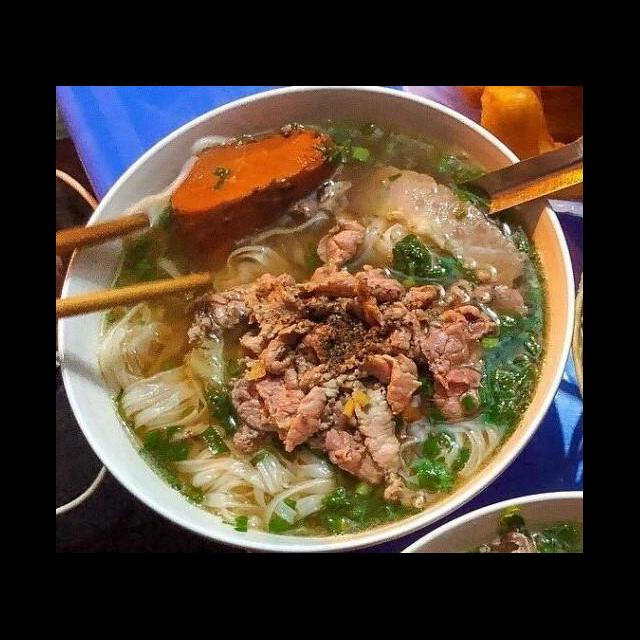banh pho: (90, 296, 232, 452), (160, 432, 342, 540), (398, 408, 512, 492)
pho bo: (61, 116, 580, 550)
thit bo: (240, 336, 352, 458), (402, 298, 507, 426), (178, 266, 304, 352), (276, 254, 414, 314)
